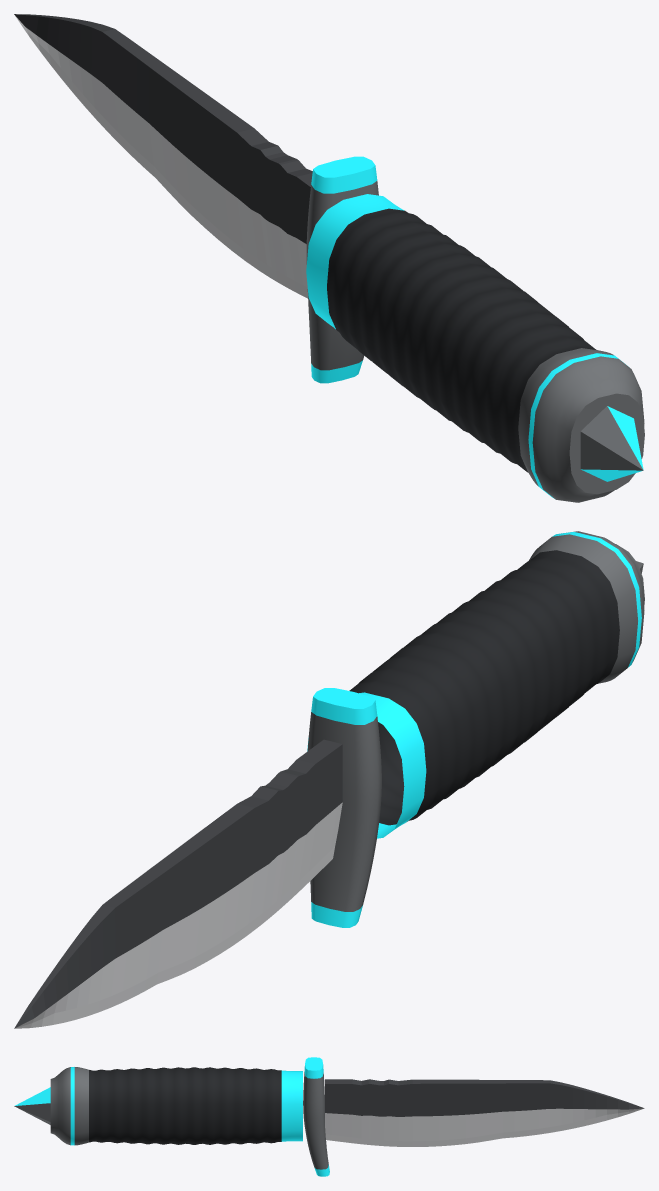
File: dagger_l.glb
The picture shows the model from 3 angles, top to bottom: view 1: azimuth 30°, elevation 25°; view 2: azimuth 150°, elevation 25°; view 3: azimuth 270°, elevation 25°; orthographic projection. The views are drawn at different scales.
Visible parts, largest first — view 1: dagger_l_mesh; view 2: dagger_l_mesh; view 3: dagger_l_mesh.
Part boxes in pixels (x1=…): dagger_l_mesh: x1=14, y1=14, x2=644, y2=502; dagger_l_mesh: x1=14, y1=531, x2=644, y2=1028; dagger_l_mesh: x1=14, y1=1057, x2=644, y2=1176.
Bounding box in the file's own units: 0.0278 × 0.052 × 0.2761.
